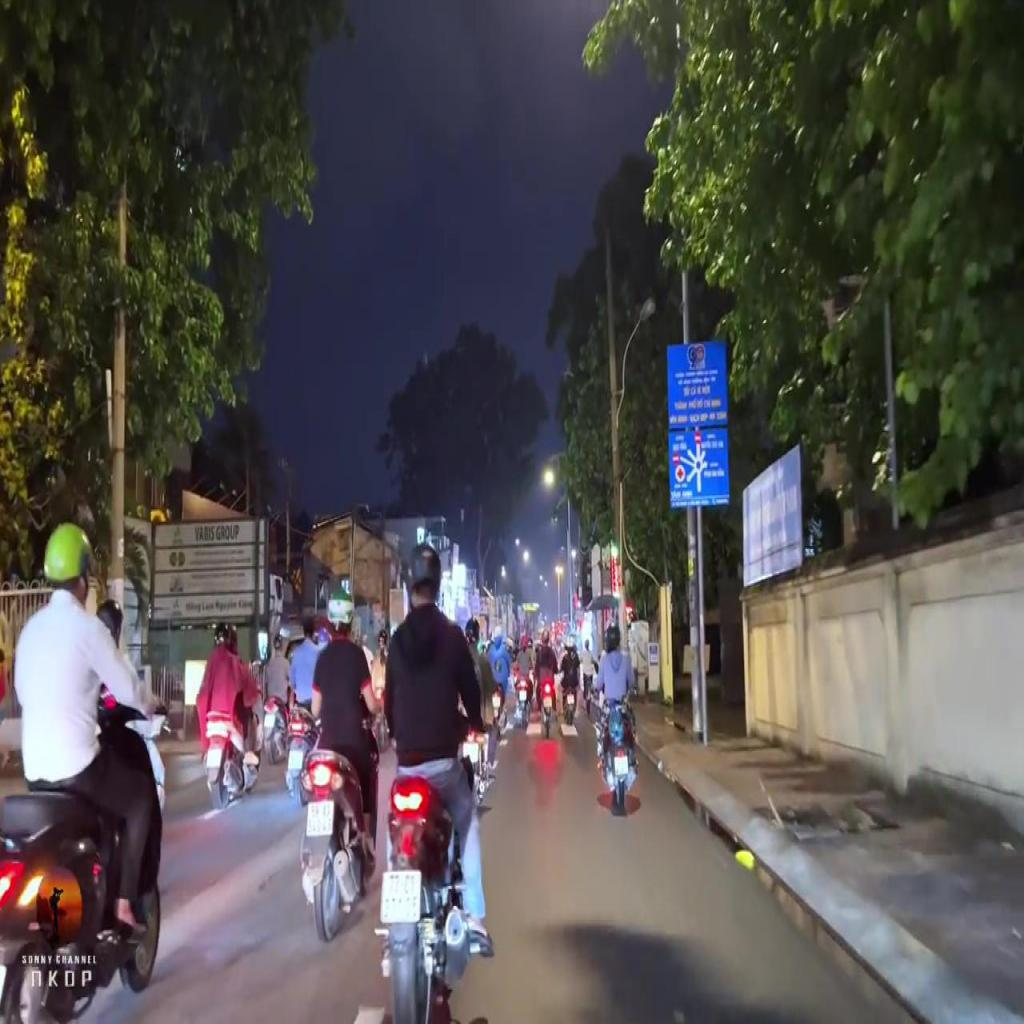khac: (668, 428, 730, 508)
